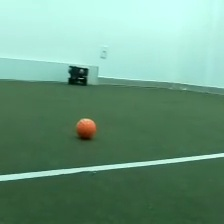ball: (72, 115, 99, 142)
goal: (1, 56, 103, 87)
robot: (66, 62, 89, 87)
